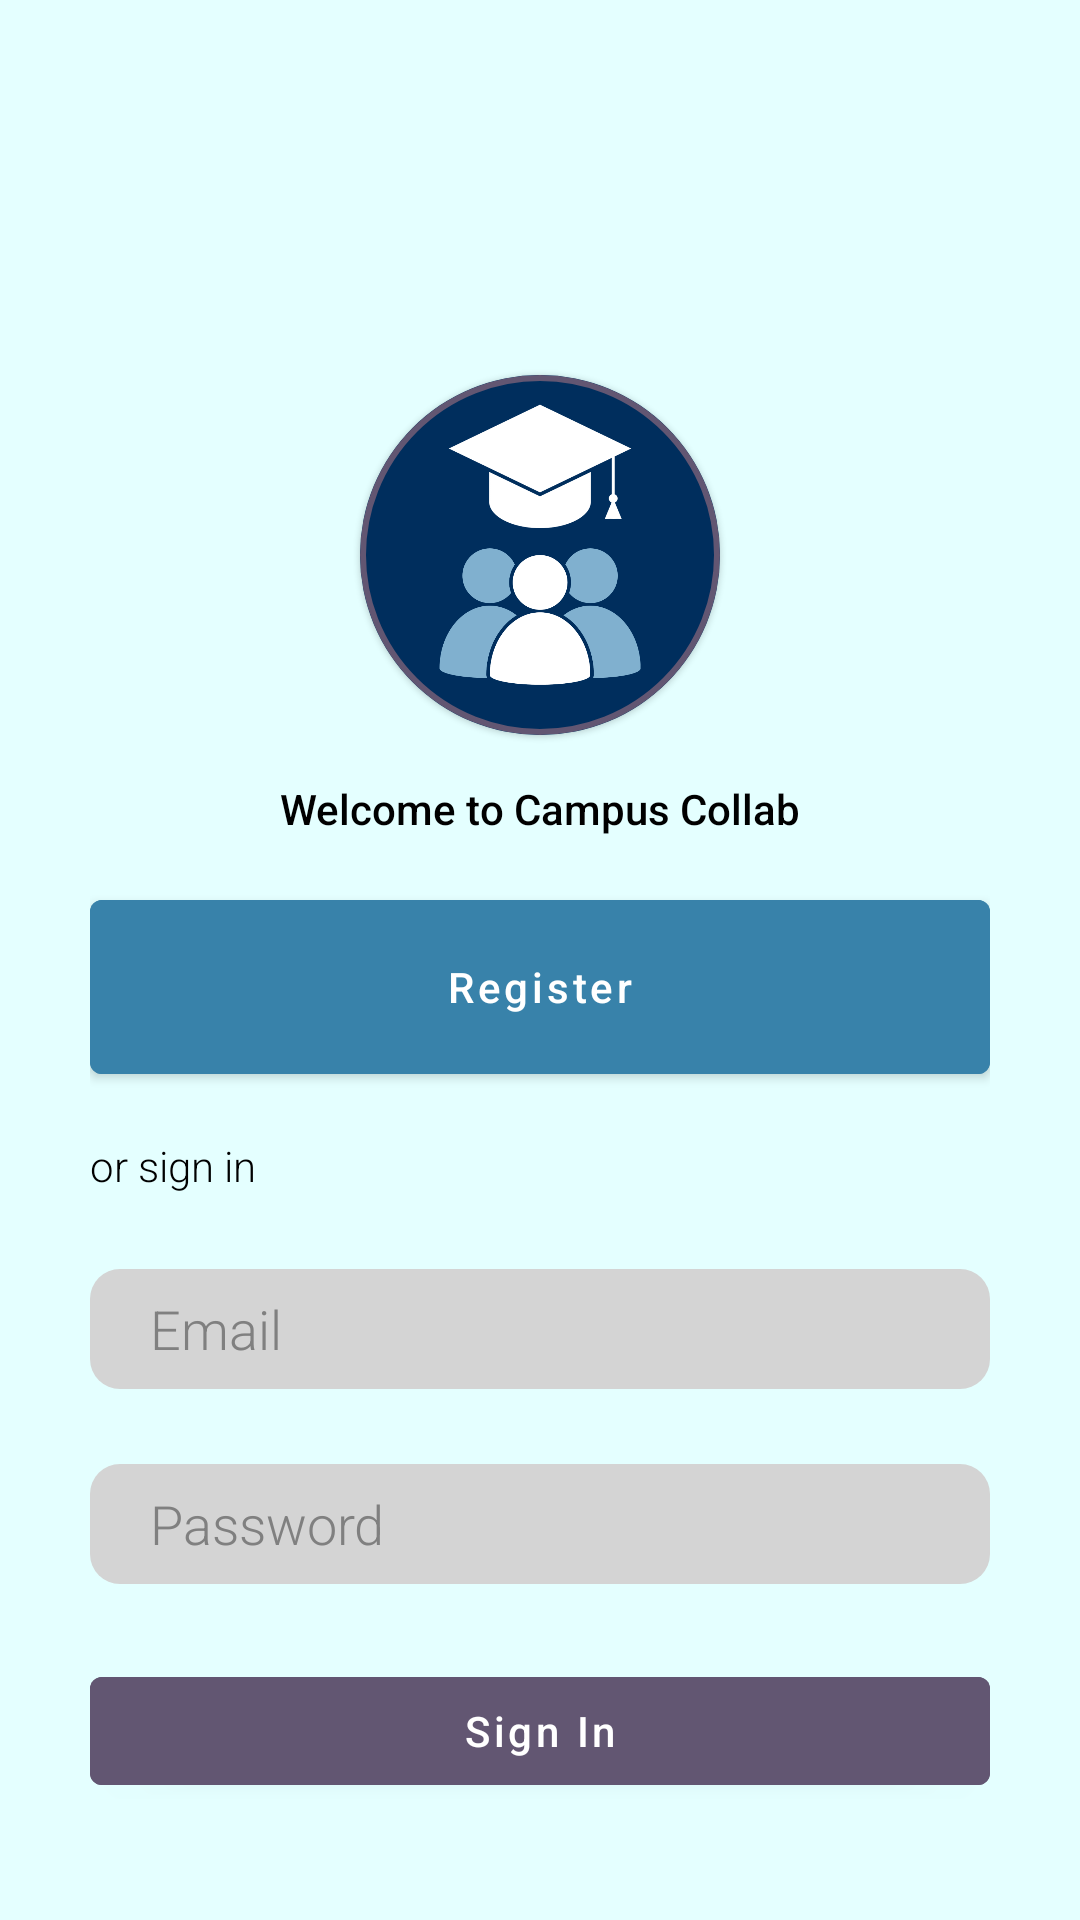

Icons on this 1080px x 1920px Android screen, each with its box as (x1,y1,x2,y2):
app: (360,375,720,735)
